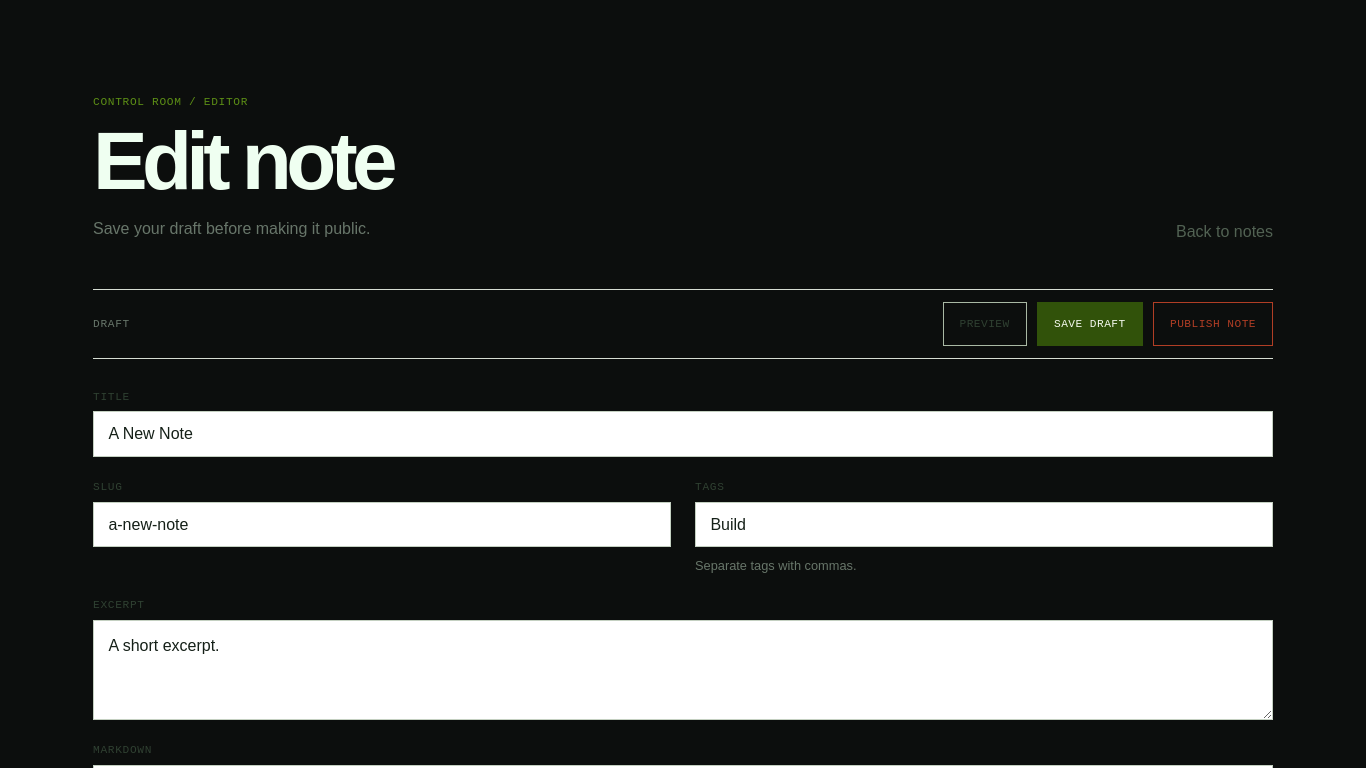
AdminNoteEditorPage › requires confirmation before publishing a saved draft
Check: the field showing "A New Note" is shown, box left=93, top=411, right=1273, bottom=457
Click the button "Publish note": coordinates (1213, 324) left=1153, top=302, right=1273, bottom=346
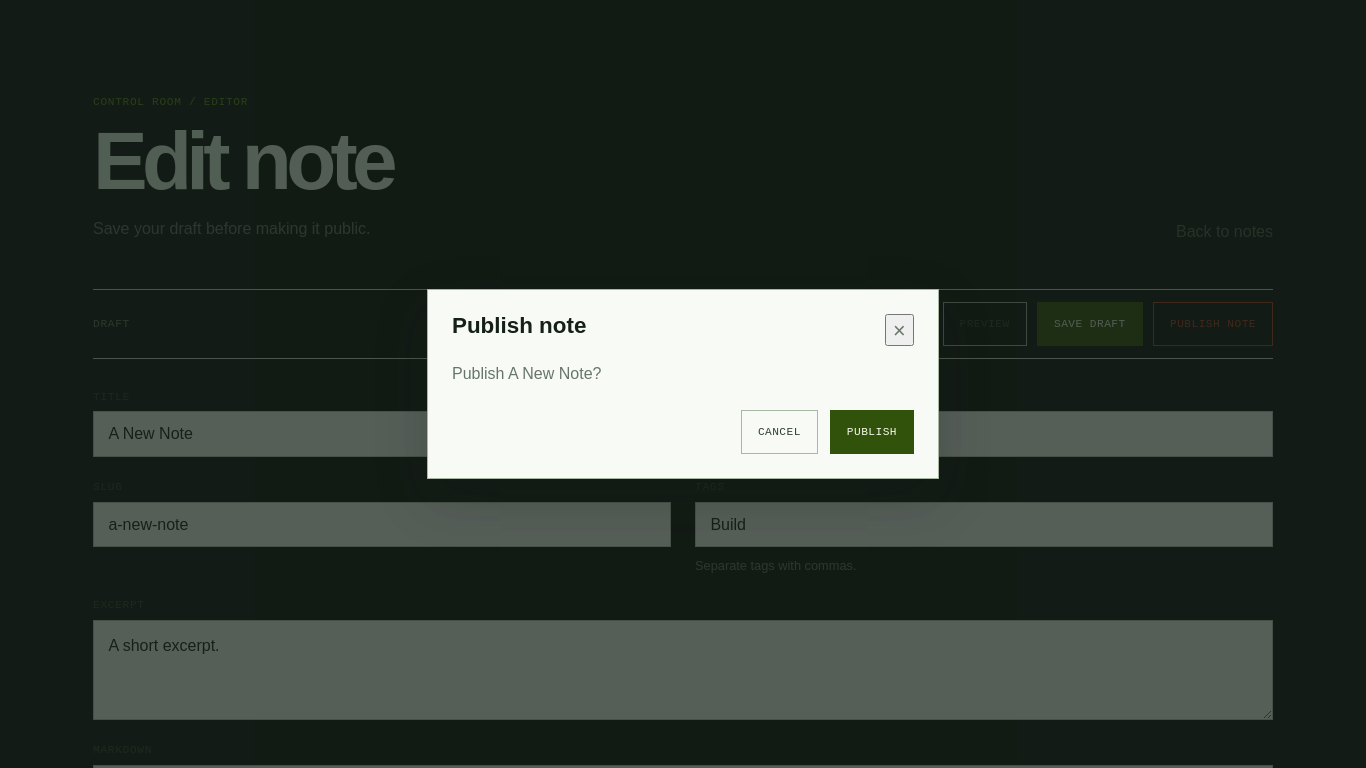
Check: the dialog "Publish note" shows "A New Note", box left=452, top=365, right=601, bottom=382
Click the button "Publish": coordinates (872, 432) left=830, top=410, right=914, bottom=454
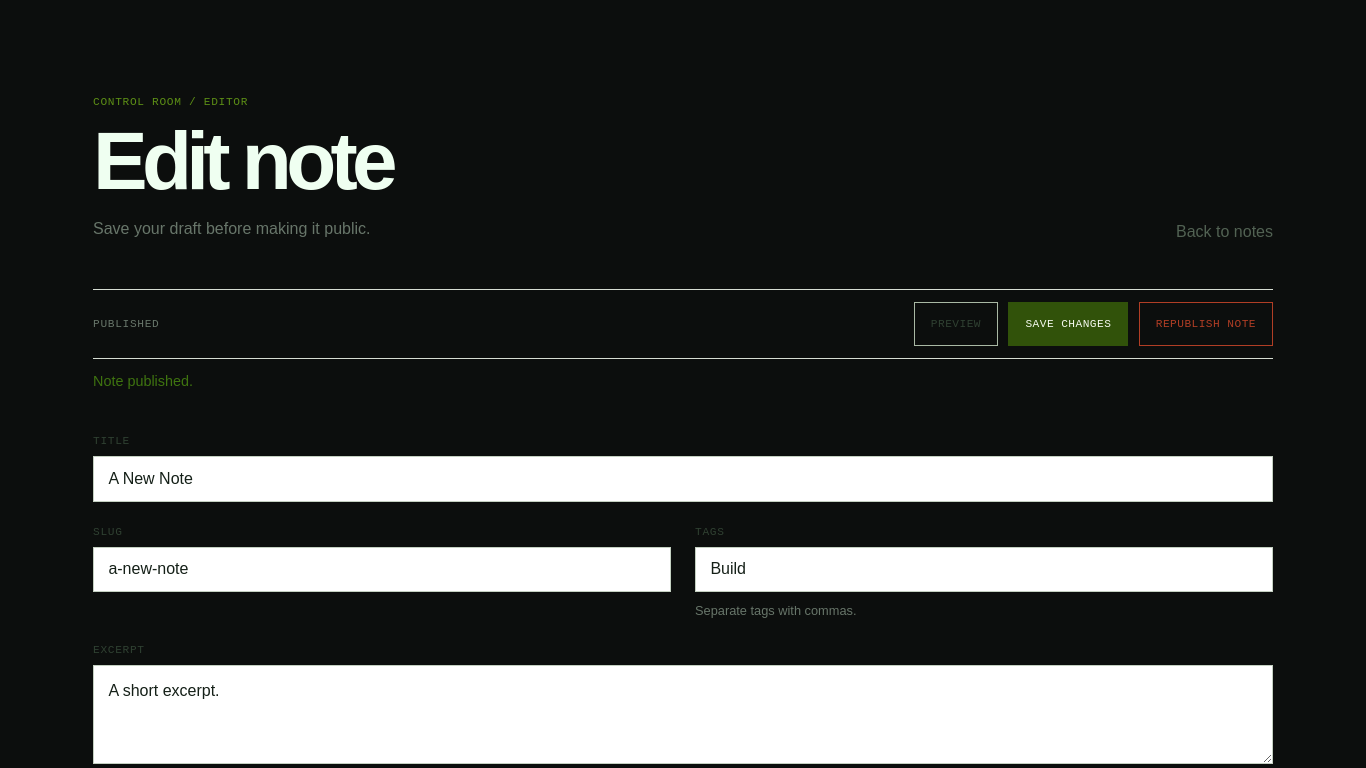
Check: the text "Note published." is shown, box left=93, top=373, right=193, bottom=389
